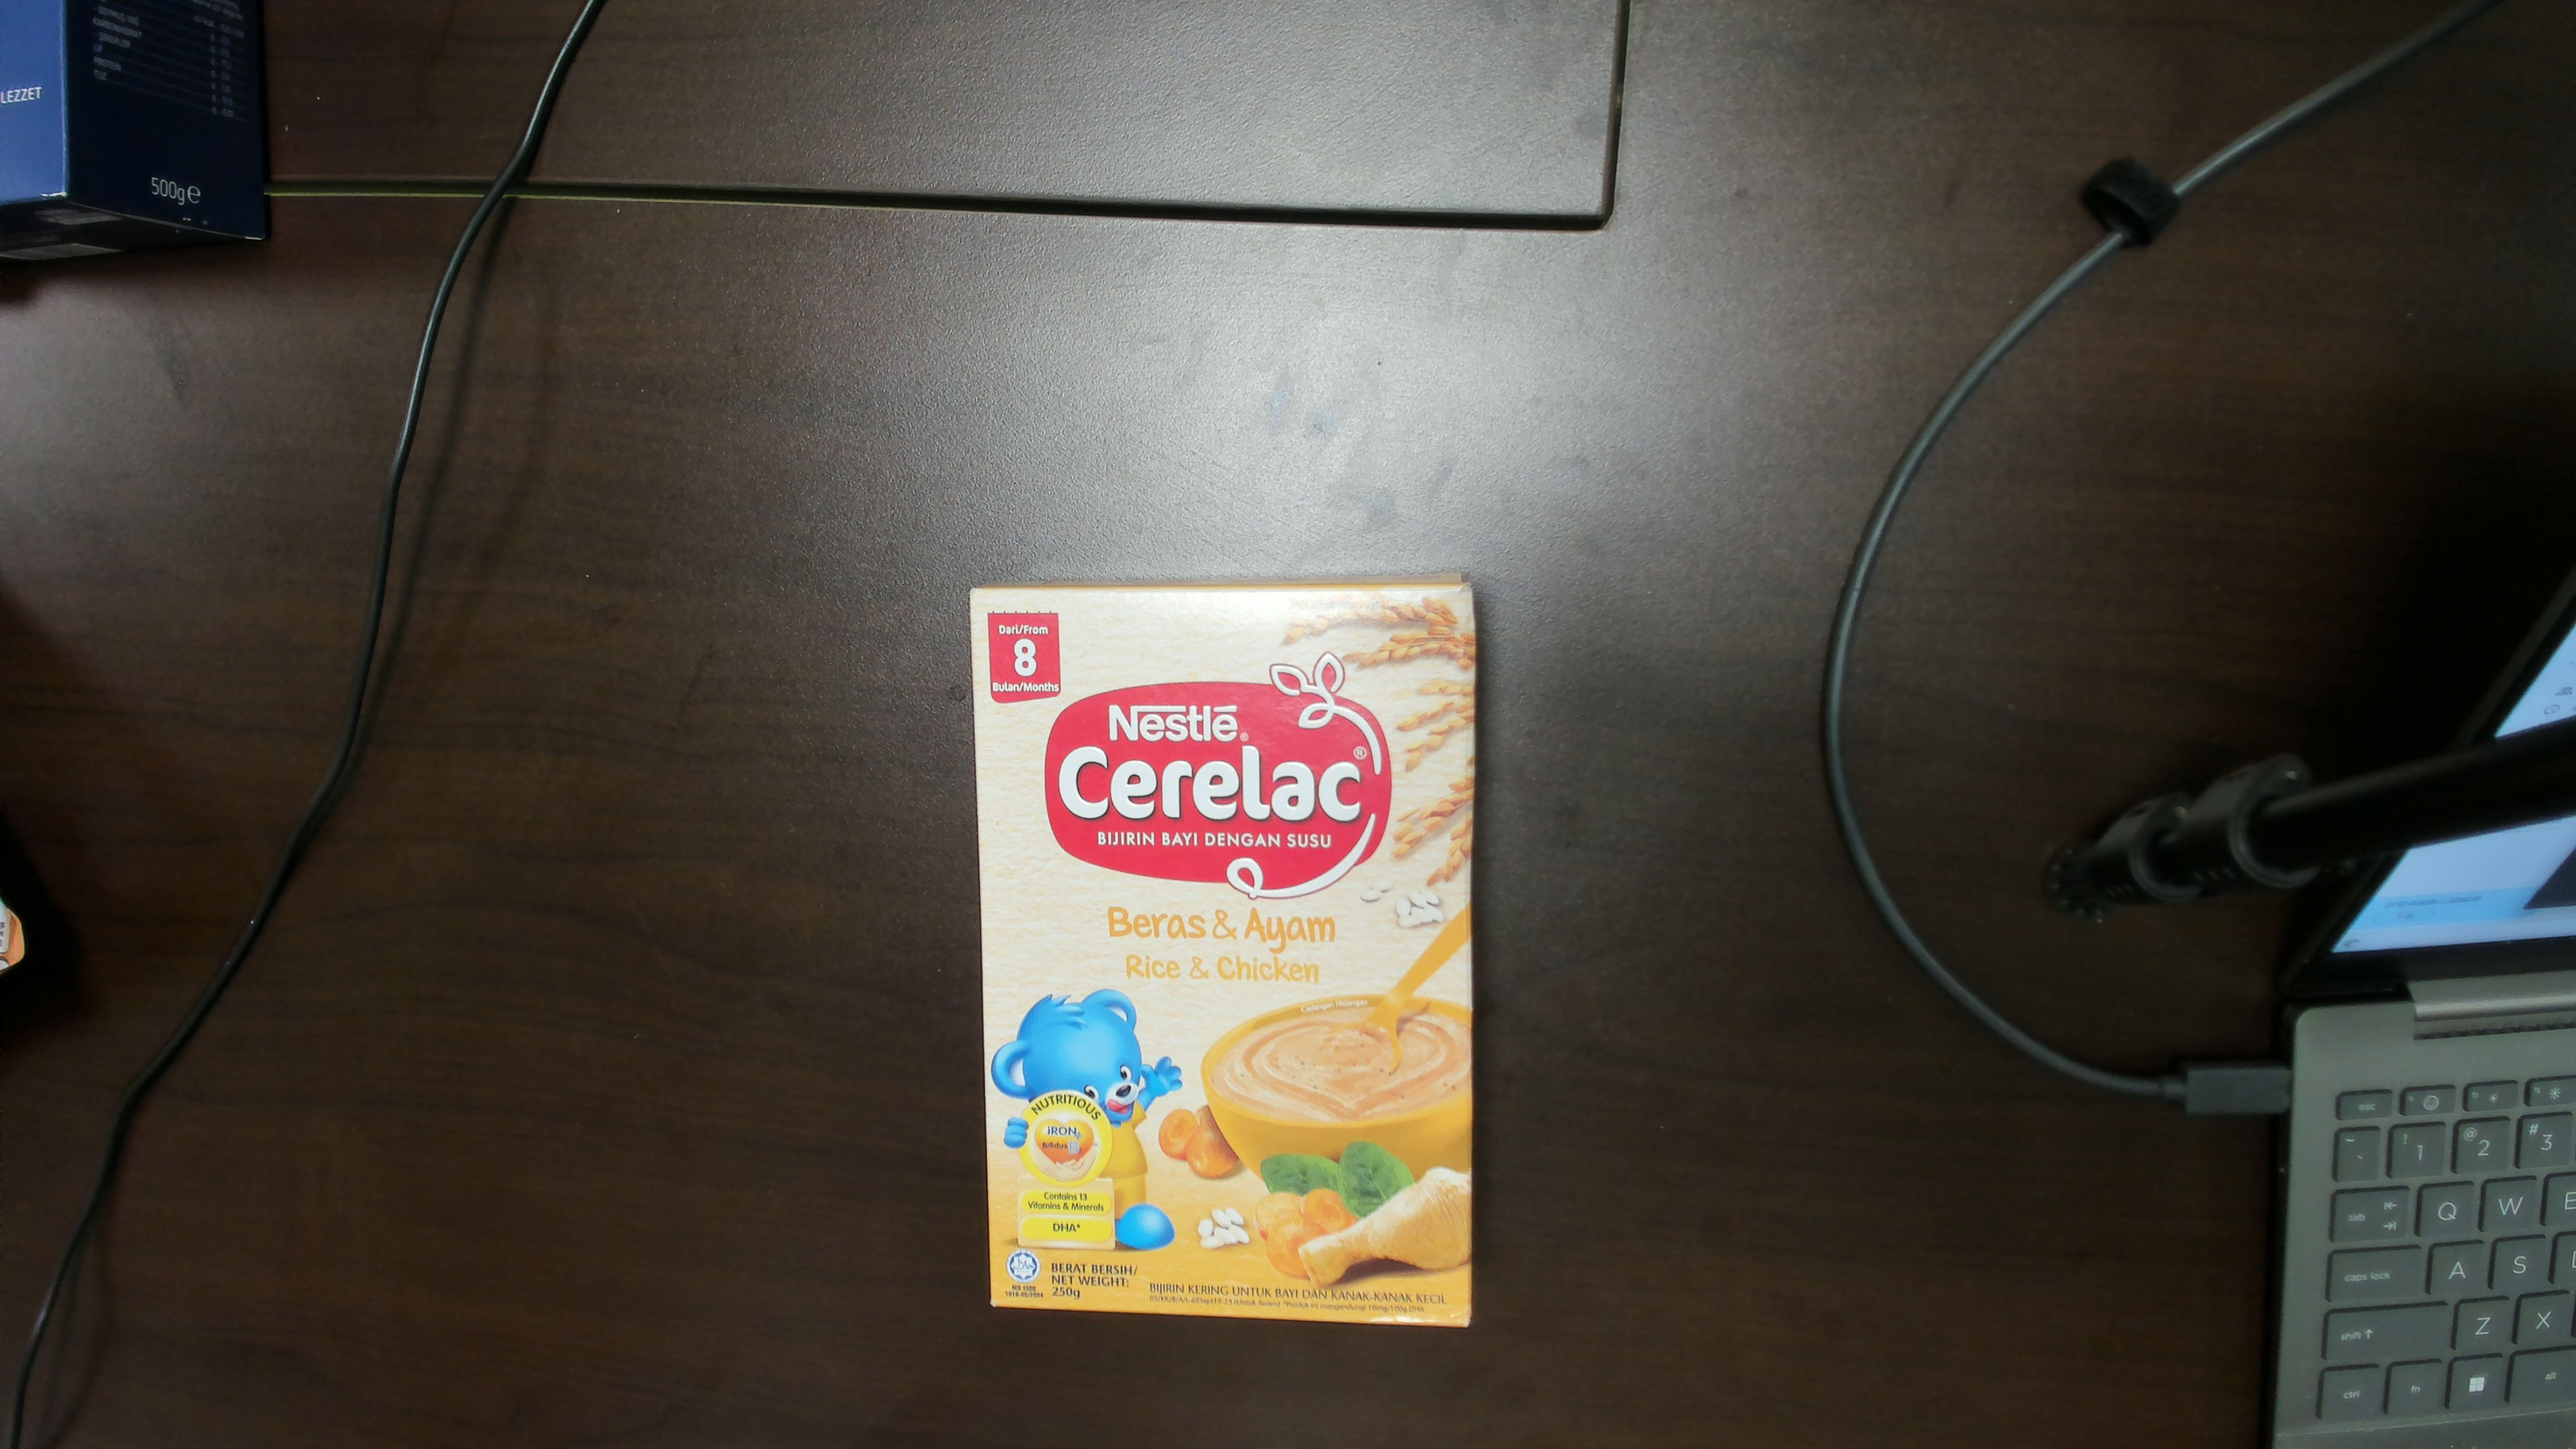Babyfood_200-299g_Halal_NonHealthy: (987, 616, 1460, 1313)
